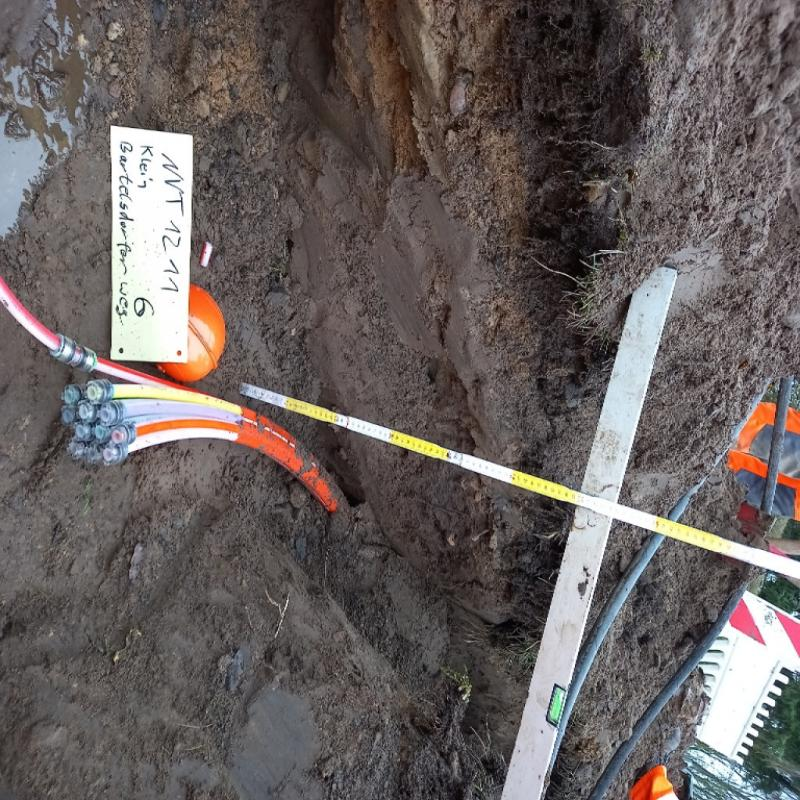Kugelmarker: (160, 280, 227, 381)
Orang-Speednetrohrchen: (47, 338, 350, 518)
